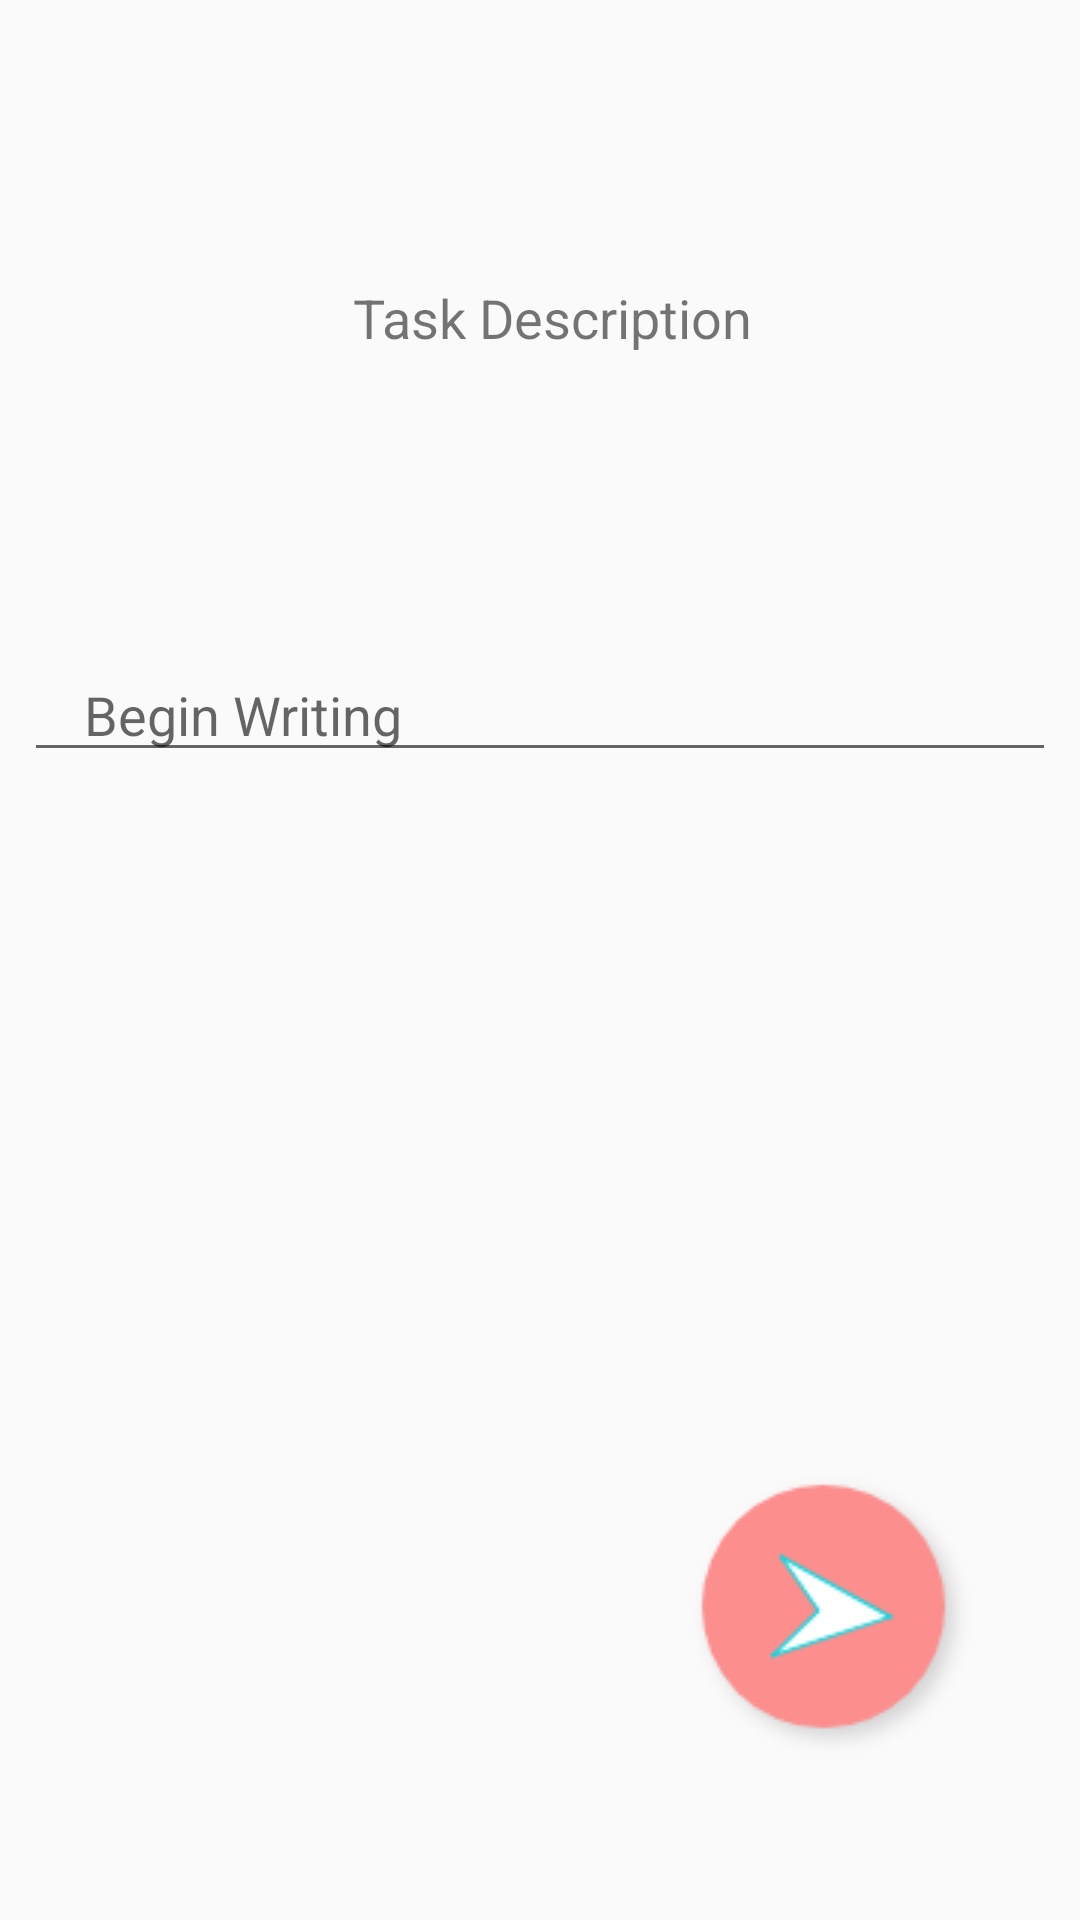

Named icons in this screenshot (1080 x 1920) and their centers, [x,y]:
submit: [826,1608]
